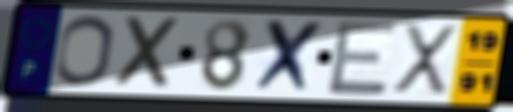8: (199, 17, 253, 92)
E: (325, 18, 399, 98)
O: (52, 13, 116, 89)
X: (249, 17, 327, 97), (113, 13, 185, 91), (388, 21, 460, 99)
